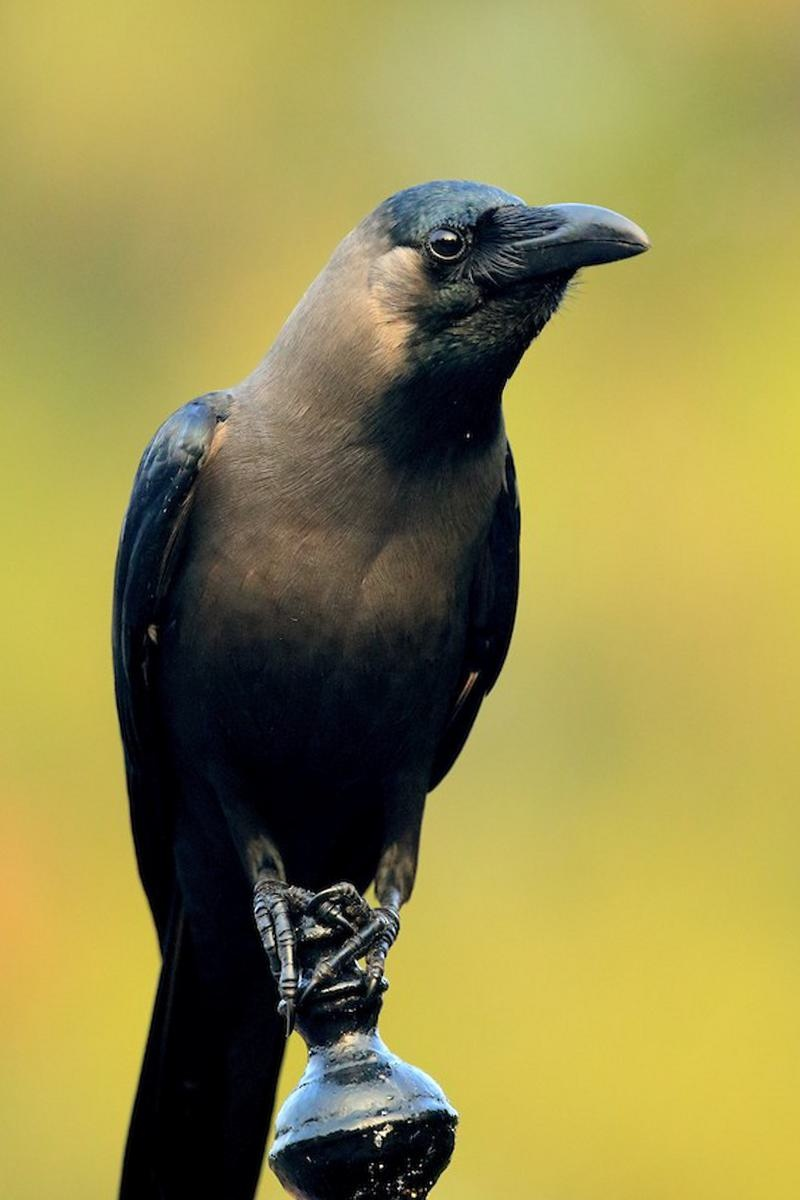crow: (26, 174, 658, 1200)
